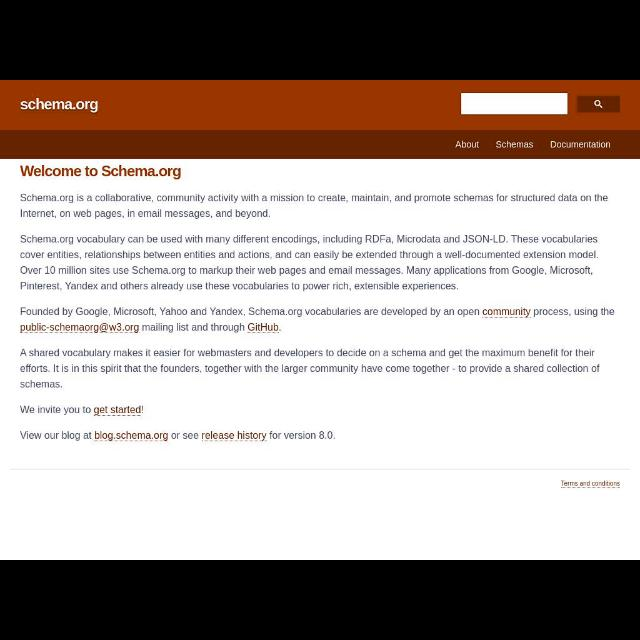button: (576, 96, 620, 112)
icon: (594, 100, 602, 108)
input: (462, 94, 568, 115)
multitab: (455, 141, 611, 149)
panel: (1, 132, 639, 158)
text: (21, 234, 599, 292), (20, 348, 600, 388), (20, 308, 614, 334), (20, 194, 608, 218), (19, 431, 335, 441), (19, 166, 181, 180), (21, 98, 99, 114), (20, 406, 144, 416), (550, 140, 612, 148), (561, 480, 621, 488), (496, 140, 534, 148), (455, 142, 479, 148)
toolbar: (1, 81, 640, 131)
